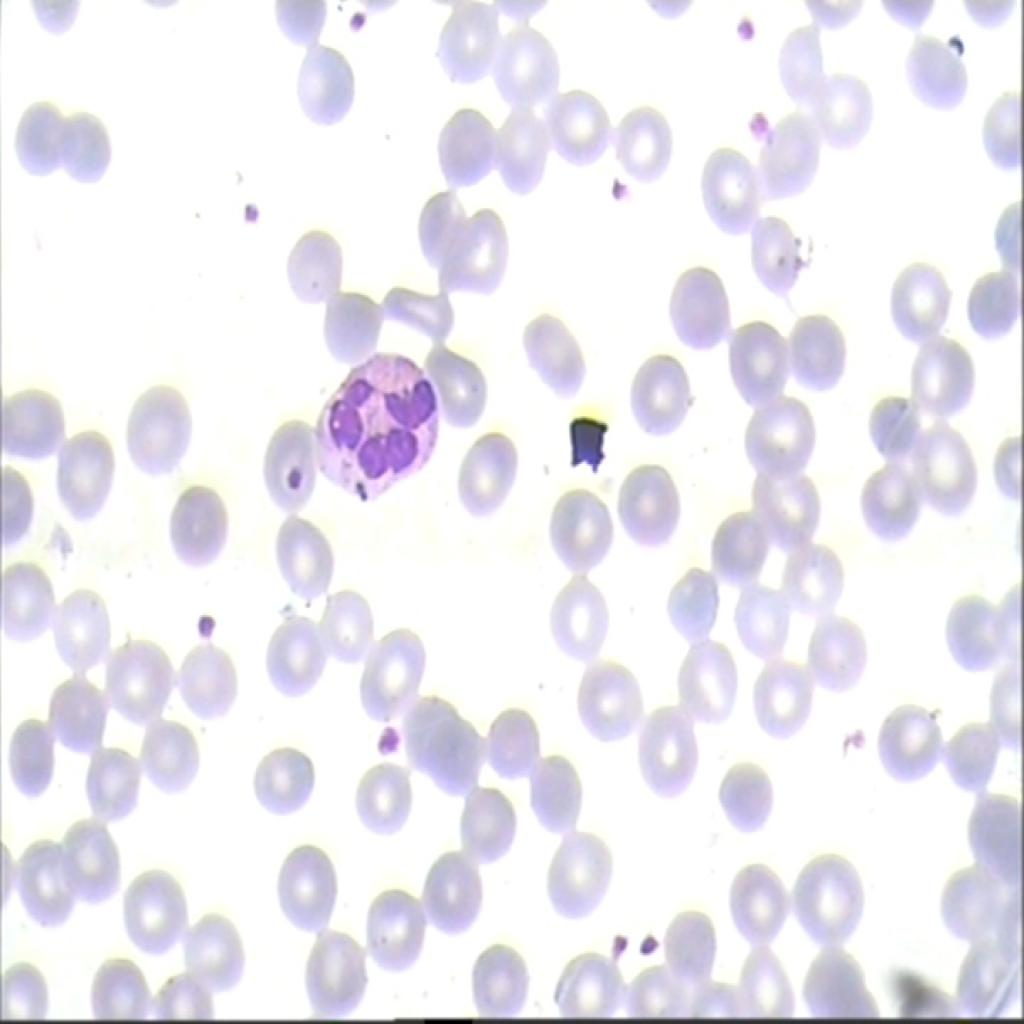Neutrofil: (308, 354, 450, 508)
Platelet: (233, 182, 273, 252), (338, 4, 388, 55), (602, 156, 647, 210), (740, 89, 776, 144), (374, 714, 405, 770), (185, 602, 220, 650), (636, 918, 661, 966), (730, 7, 756, 46), (286, 462, 307, 494), (610, 923, 624, 960)
